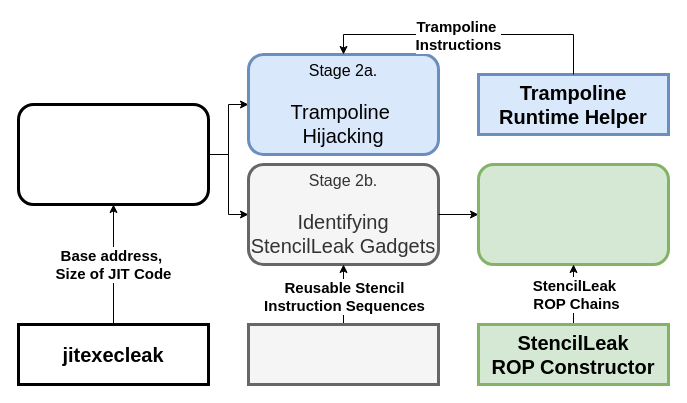
Image size: 687x403. Some labels were removed from this diagram. Here are the shapes that lost their labels. From the top down, the box of each, then its label:
(16, 102, 210, 206): Stage 1. Expose target memory region
(476, 162, 670, 266): Stage 3. Chaining StencilLeak Gadgets
(246, 322, 440, 386): StencilLeak Scanner
